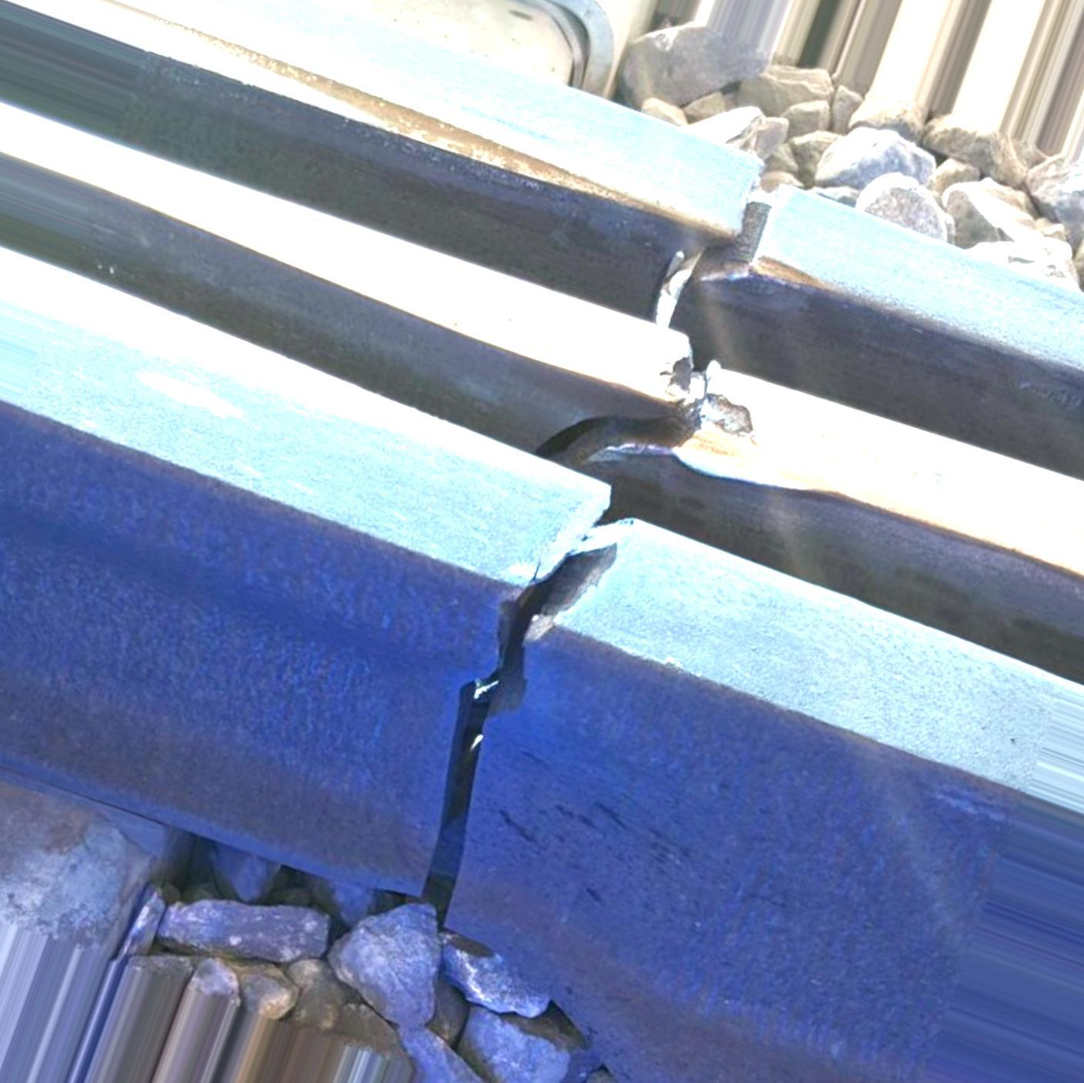railway-gap: (229, 450, 749, 955)
